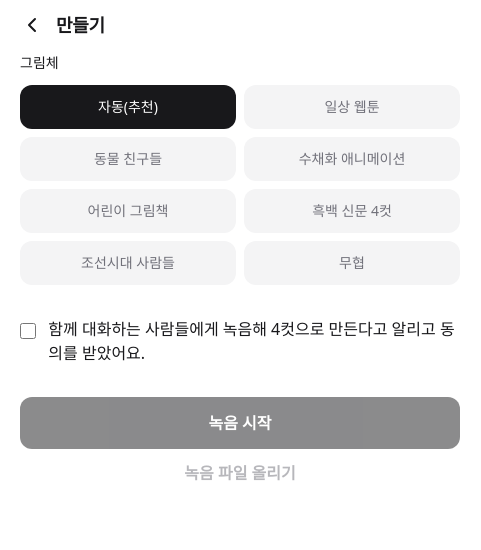
녹음 (FR-001, FR-002) › 대화를 만들지 못하면 마이크를 끄고 알린다
Click the checkbox labelled "함께 대화하는 사람들에게 녹음해 4컷으로 만든다고 알리고 동의를 받았어요.".
click(28, 331)  # box x1=20 y1=321 x2=36 y2=341
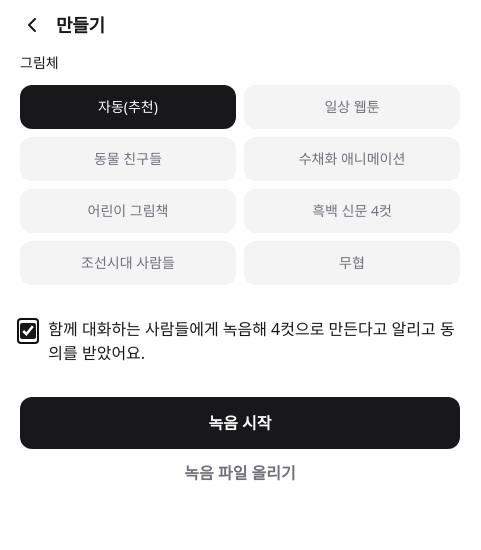
Click the button "녹음 시작".
click(240, 423)  # box x1=20 y1=397 x2=460 y2=449
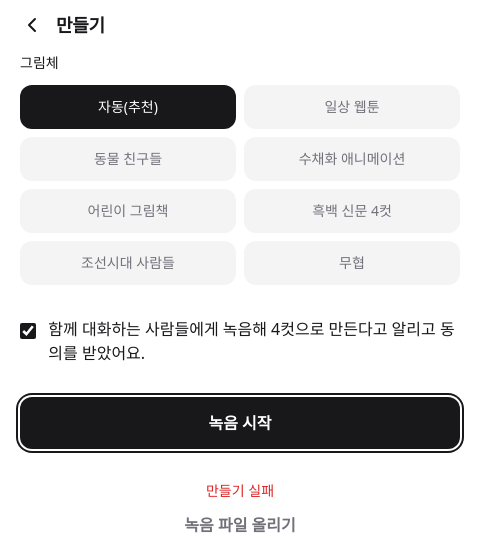
Result: the text "만들기 실패" is shown at x1=206 y1=481 x2=274 y2=501
